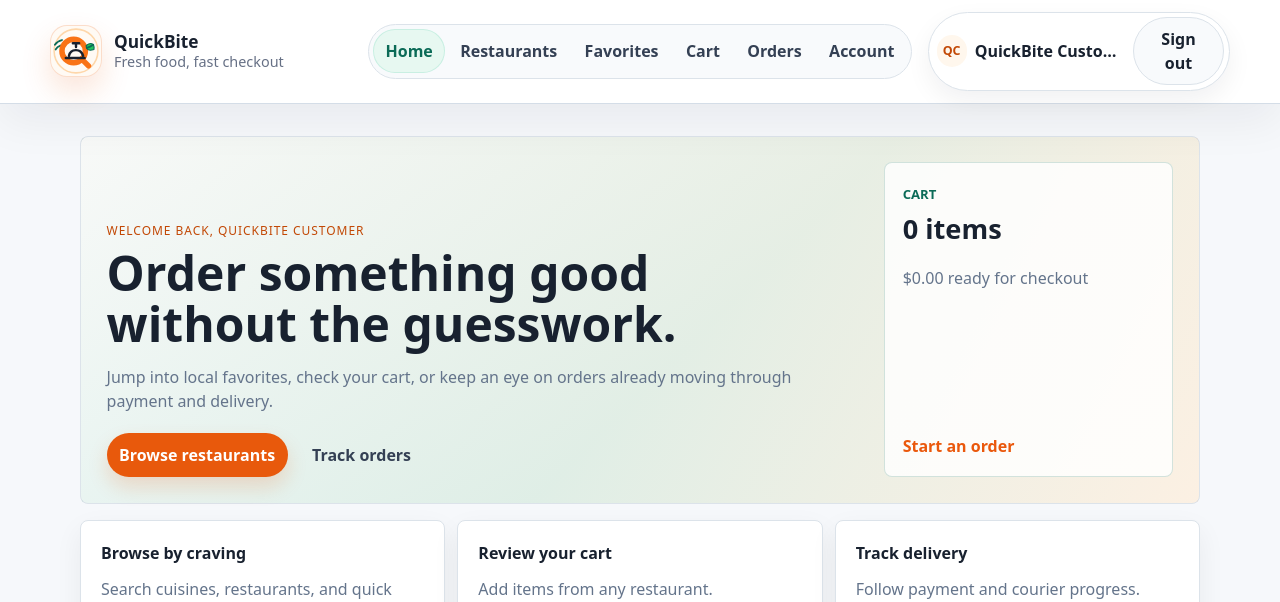
Test: QuickBite app shell › lets users navigate to the orders page without a page reload
Click the link "Orders": click(775, 51) [747,40,802,62]
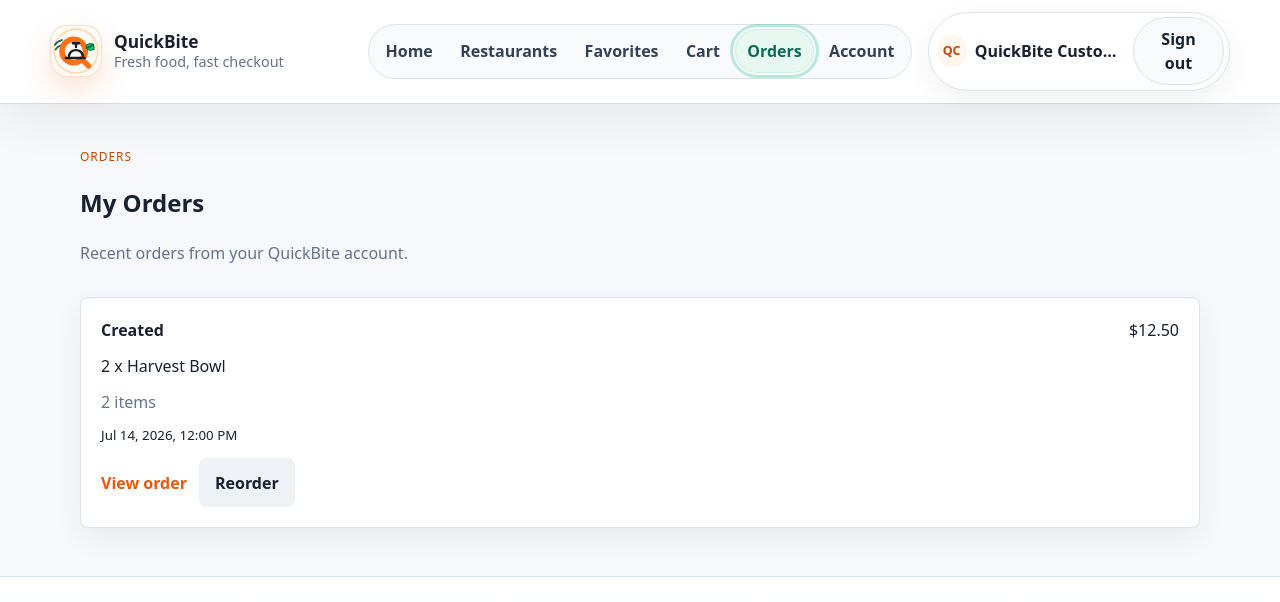
Expected: the text "2 x Harvest Bowl" is shown, [101,355,226,377]
Result: the heading "My Orders" is shown at [80,186,204,219]
